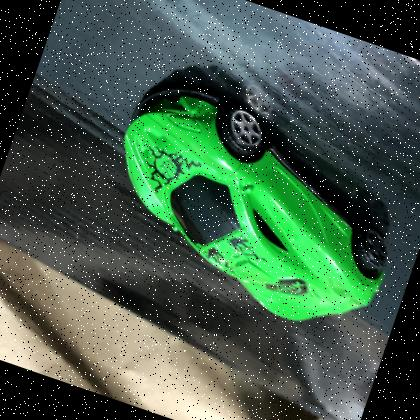Car: (122, 85, 388, 320)
